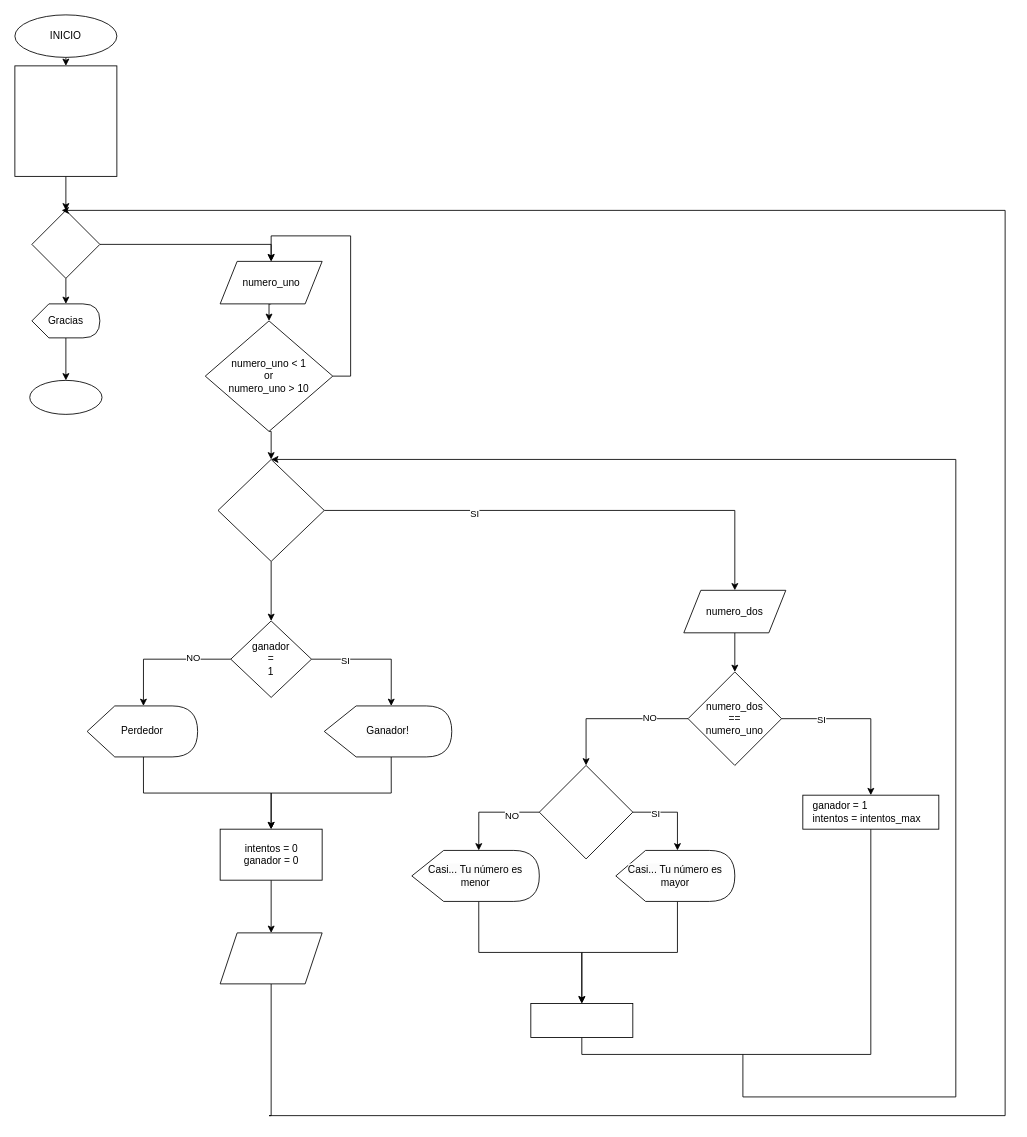
The diagram is 1027 pixels wide and 1137 high, and some of its shapes have lost their labels. The centre of each missing label's shape, as x and y in pixels:
FIN: pixel 65 397
intentos < intentos_max: pixel 270 510
intentos++: pixel 581 1020
jugar: pixel 270 958
jugar = 1: pixel 65 244
numero_dos > numero_uno: pixel 585 812
numero_uno numero_dos intentos = 0 intentos_max = 3 jugar = 1 ganador = 0: pixel 65 120
